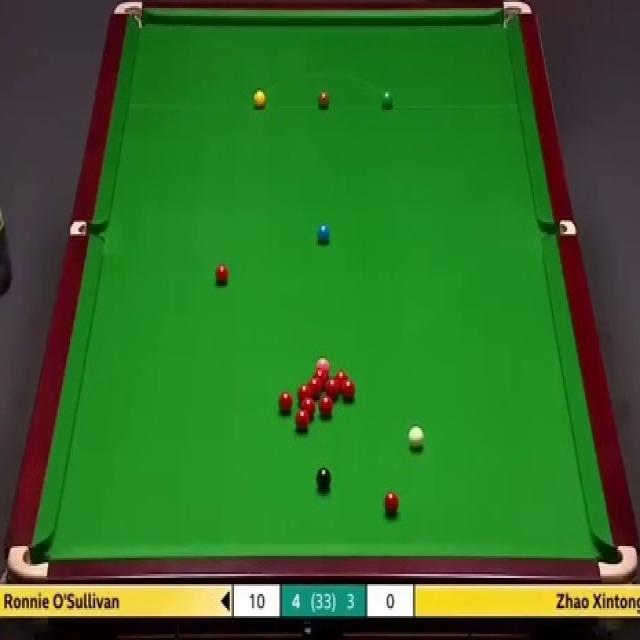pocket: (595, 540, 639, 585), (7, 546, 50, 579), (109, 0, 145, 34), (498, 0, 533, 32), (537, 220, 573, 235), (66, 220, 100, 235)
